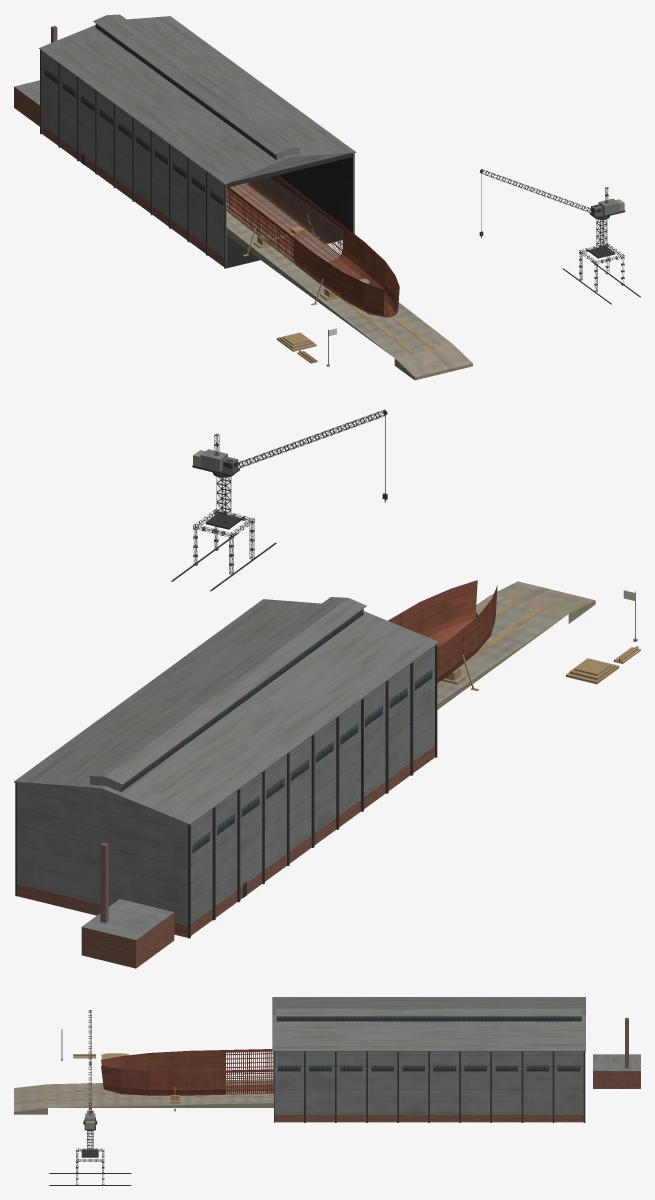
File: port.glb
3 views of the same model, one above another, from view 1: azimuth 30°, elevation 25°; view 2: azimuth 150°, elevation 25°; view 3: azimuth 270°, elevation 25° (orthographic). The views are drawn at different scales.
Parts seen in each view (by area): view 1: chantier, coque_cale, avant_cale, grue, grue_couronne, fleche; view 2: chantier, coque_cale, grue, avant_cale, grue_couronne, fleche; view 3: chantier, coque_cale, avant_cale, grue, fleche.
Part boxes in pixels (x1,y1,x2,y2): chantier: (14, 14, 452, 363); coque_cale: (226, 175, 399, 317); avant_cale: (394, 344, 472, 380); grue: (562, 219, 640, 304); grue_couronne: (589, 187, 625, 219); fleche: (479, 169, 593, 214); chantier: (14, 595, 640, 968); coque_cale: (388, 580, 497, 683); grue: (171, 477, 276, 591); avant_cale: (491, 581, 595, 623); grue_couronne: (192, 433, 239, 477); fleche: (234, 409, 387, 470); chantier: (48, 997, 640, 1122); coque_cale: (101, 1049, 273, 1095); avant_cale: (14, 1084, 47, 1114); grue: (49, 1130, 131, 1185); fleche: (88, 1010, 91, 1110).
Bounding box in the file's own units: 111 × 49.52 × 222.
Materials: 12 (11 with a texture image).
